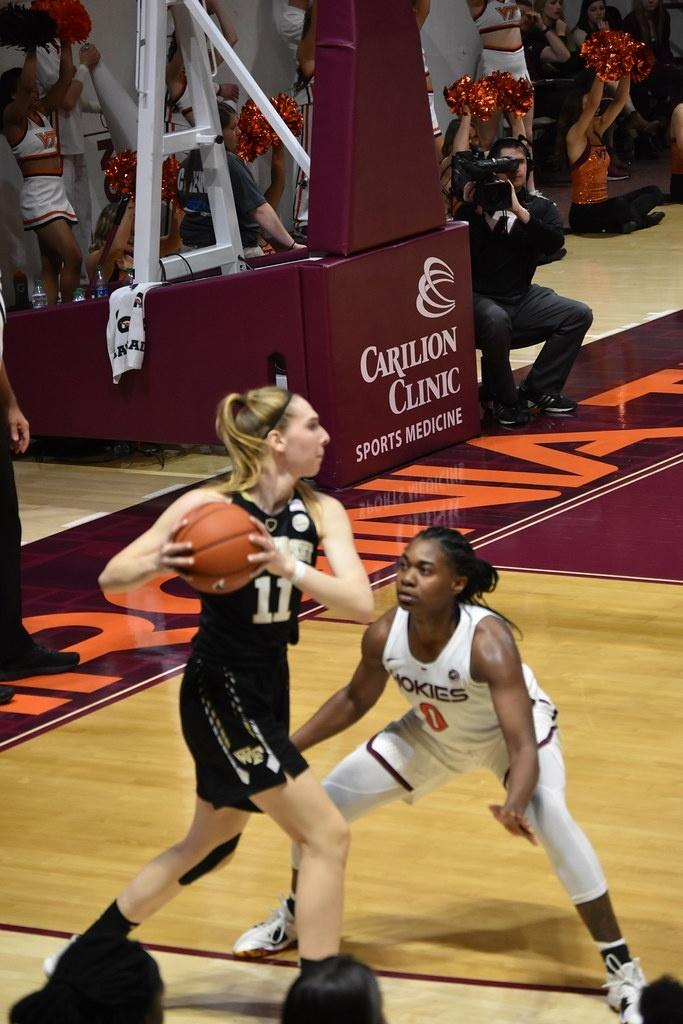basketball-player: (230, 442, 675, 1012), (84, 388, 377, 1024)
